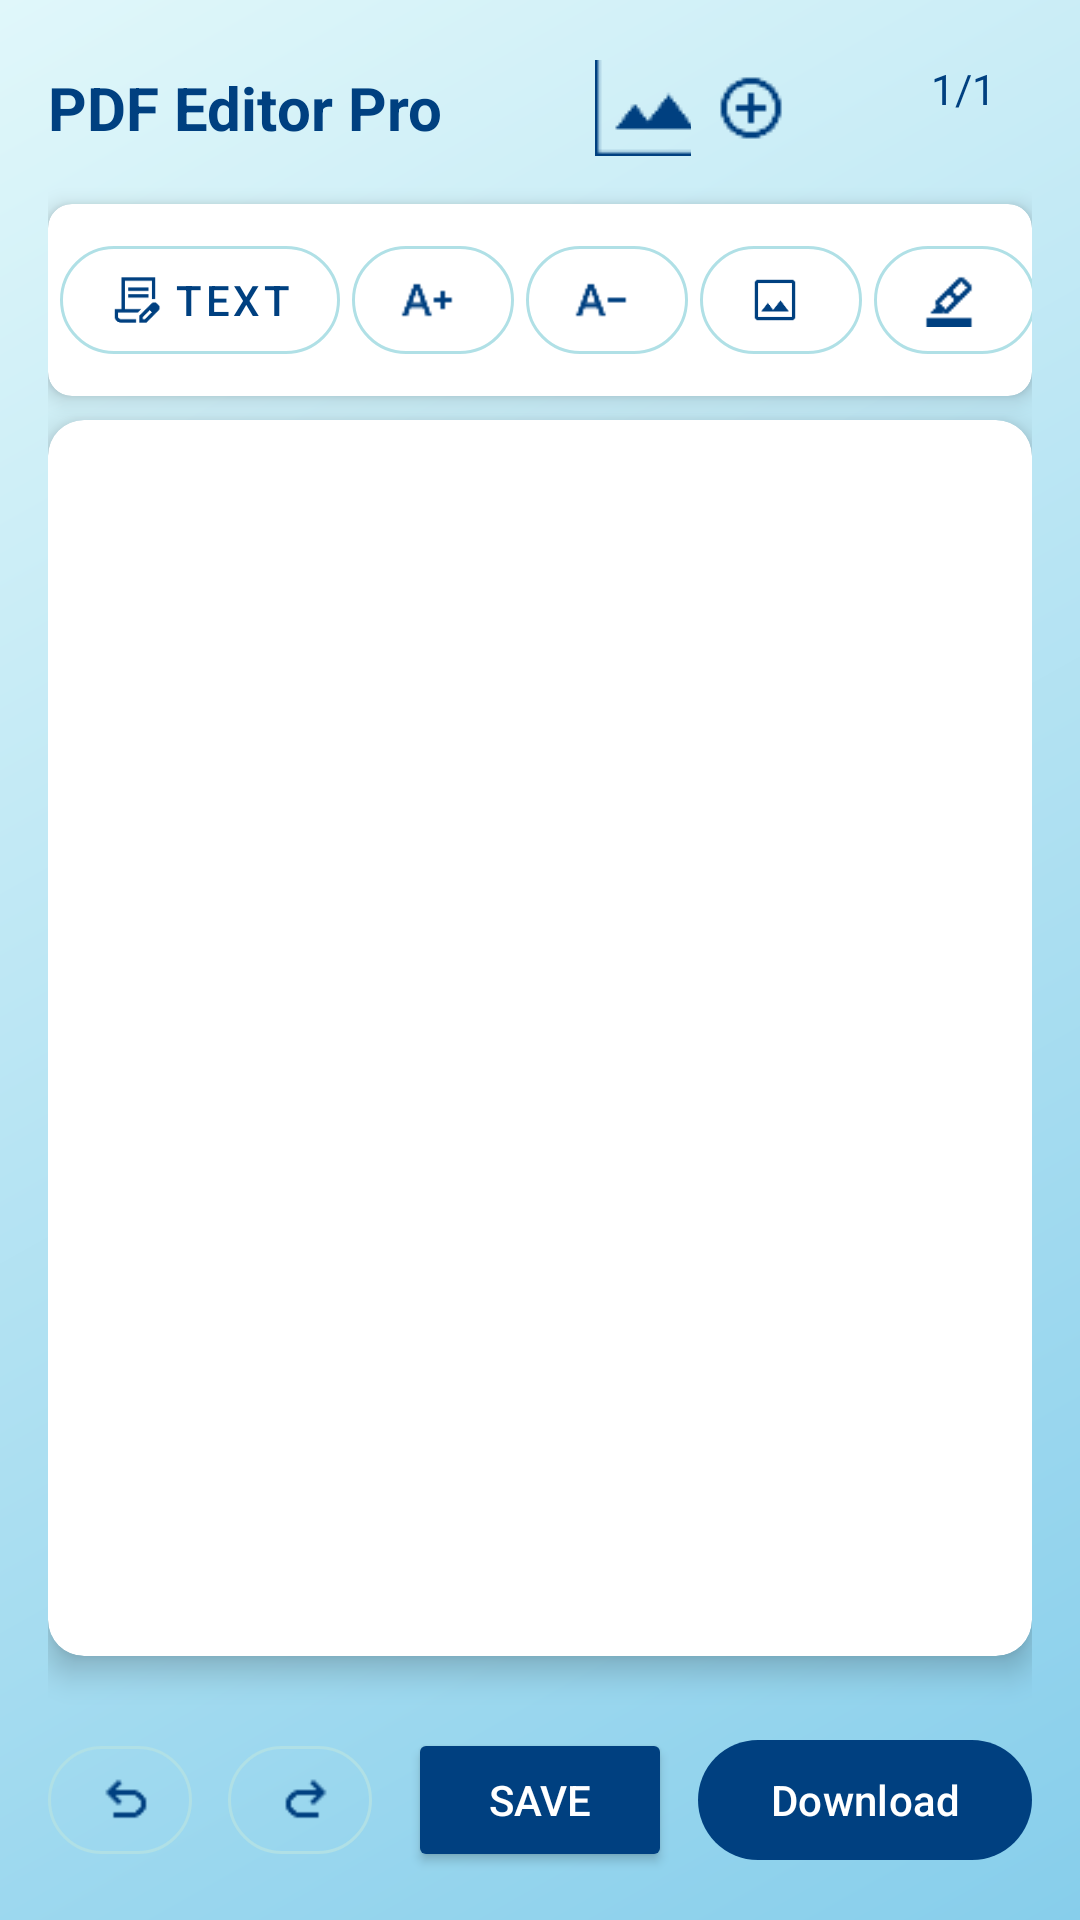

Named icons in this screenshot (1080x1920) and their centers, [x,y]:
add: [751,108]
decrease: [607,300]
gallery: [781,300]
highlight: [953,300]
increase: [433,300]
photo library: [643,108]
redo: [305,1798]
undo: [126,1798]
